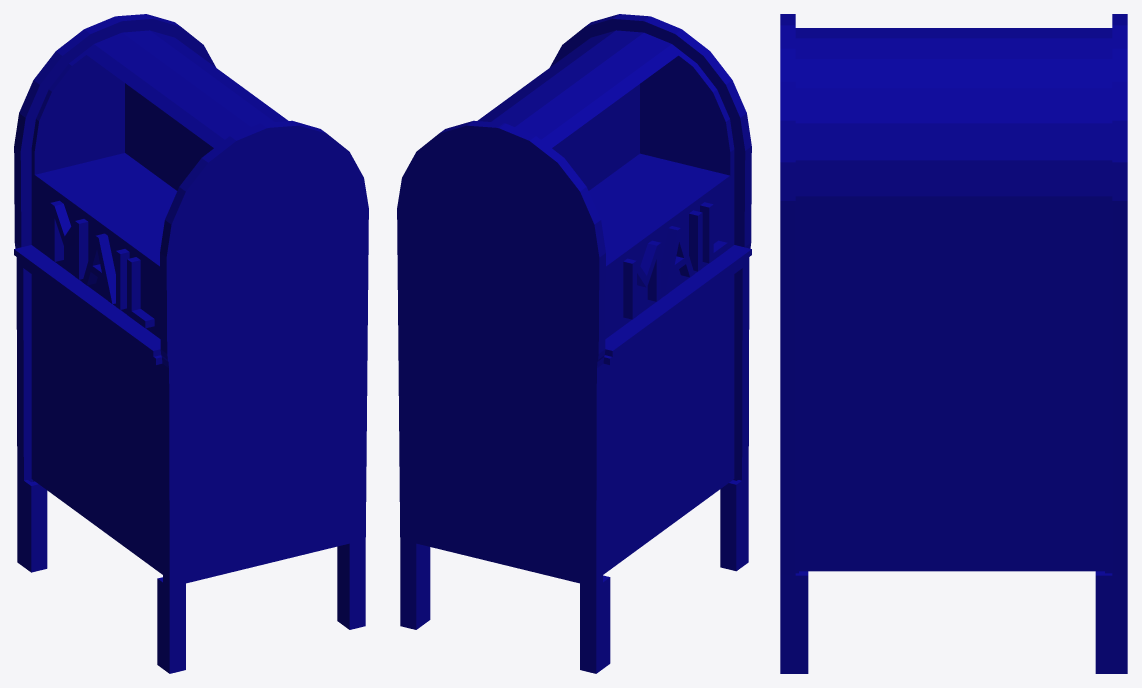
The model's file is Mailbox.fbx.
The picture shows the model from 3 angles, left to right: view 1: azimuth 30°, elevation 25°; view 2: azimuth 150°, elevation 25°; view 3: azimuth 270°, elevation 25°; orthographic projection. The views are drawn at different scales.
Parts seen in each view (by area): view 1: Cube; view 2: Cube; view 3: Cube.
Boxes of the visible parts, x1=… form: Cube: x1=14, y1=14, x2=368, y2=673; Cube: x1=397, y1=14, x2=751, y2=673; Cube: x1=780, y1=14, x2=1127, y2=673.
Bounding box in the file's own units: 231 × 552 × 292.
